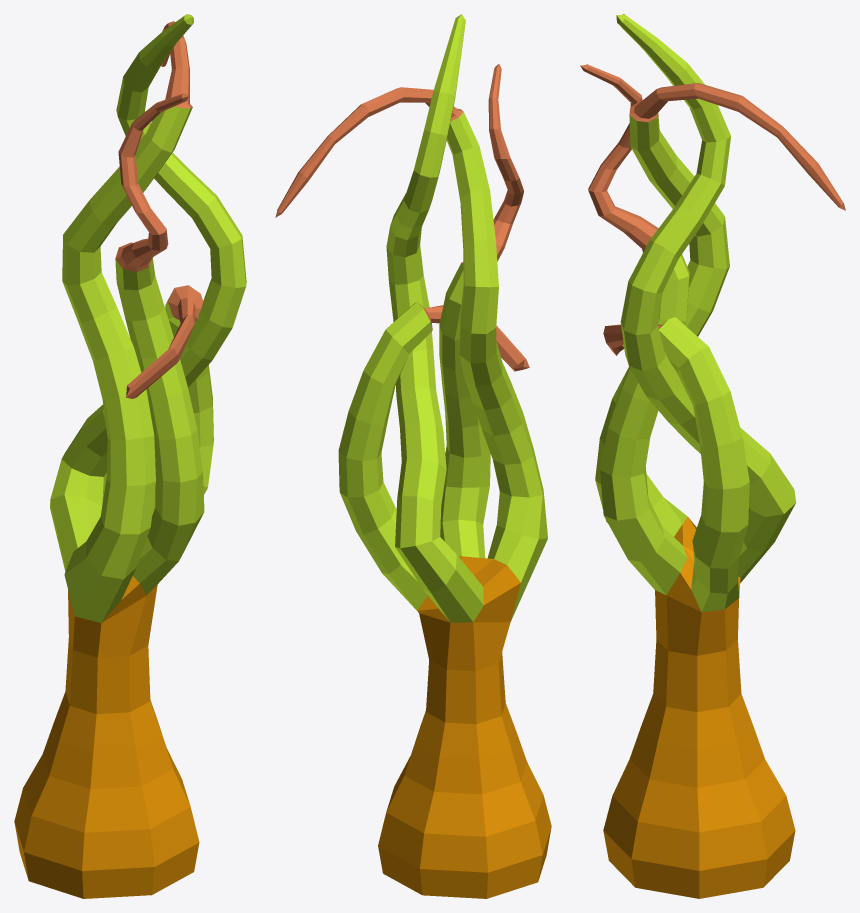
The model's file is Tree_17_Var_06.fbx.
3 views of the same model, side by side, from view 1: azimuth 30°, elevation 25°; view 2: azimuth 150°, elevation 25°; view 3: azimuth 270°, elevation 25° (orthographic). The views are drawn at different scales.
Parts seen in each view (by area): view 1: Tree_17_Var_06; view 2: Tree_17_Var_06; view 3: Tree_17_Var_06.
Part boxes in pixels (x1,y1,x2,y2): Tree_17_Var_06: (14, 14, 246, 898); Tree_17_Var_06: (275, 14, 551, 898); Tree_17_Var_06: (580, 14, 845, 898).
Bounding box in the file's own units: 1.06 × 3.8 × 0.9784.
